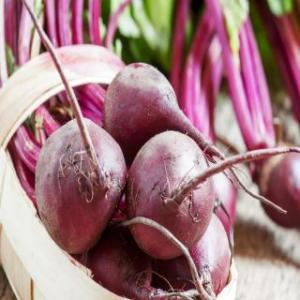beet: (128, 132, 216, 258), (38, 125, 125, 245), (103, 62, 193, 138), (172, 213, 232, 287), (94, 231, 152, 295), (260, 150, 300, 224)
